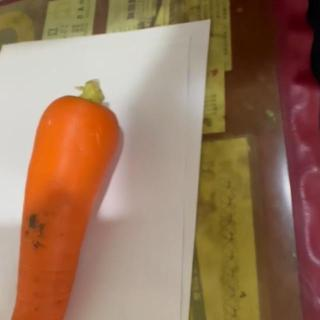carrot: (4, 77, 121, 320)
